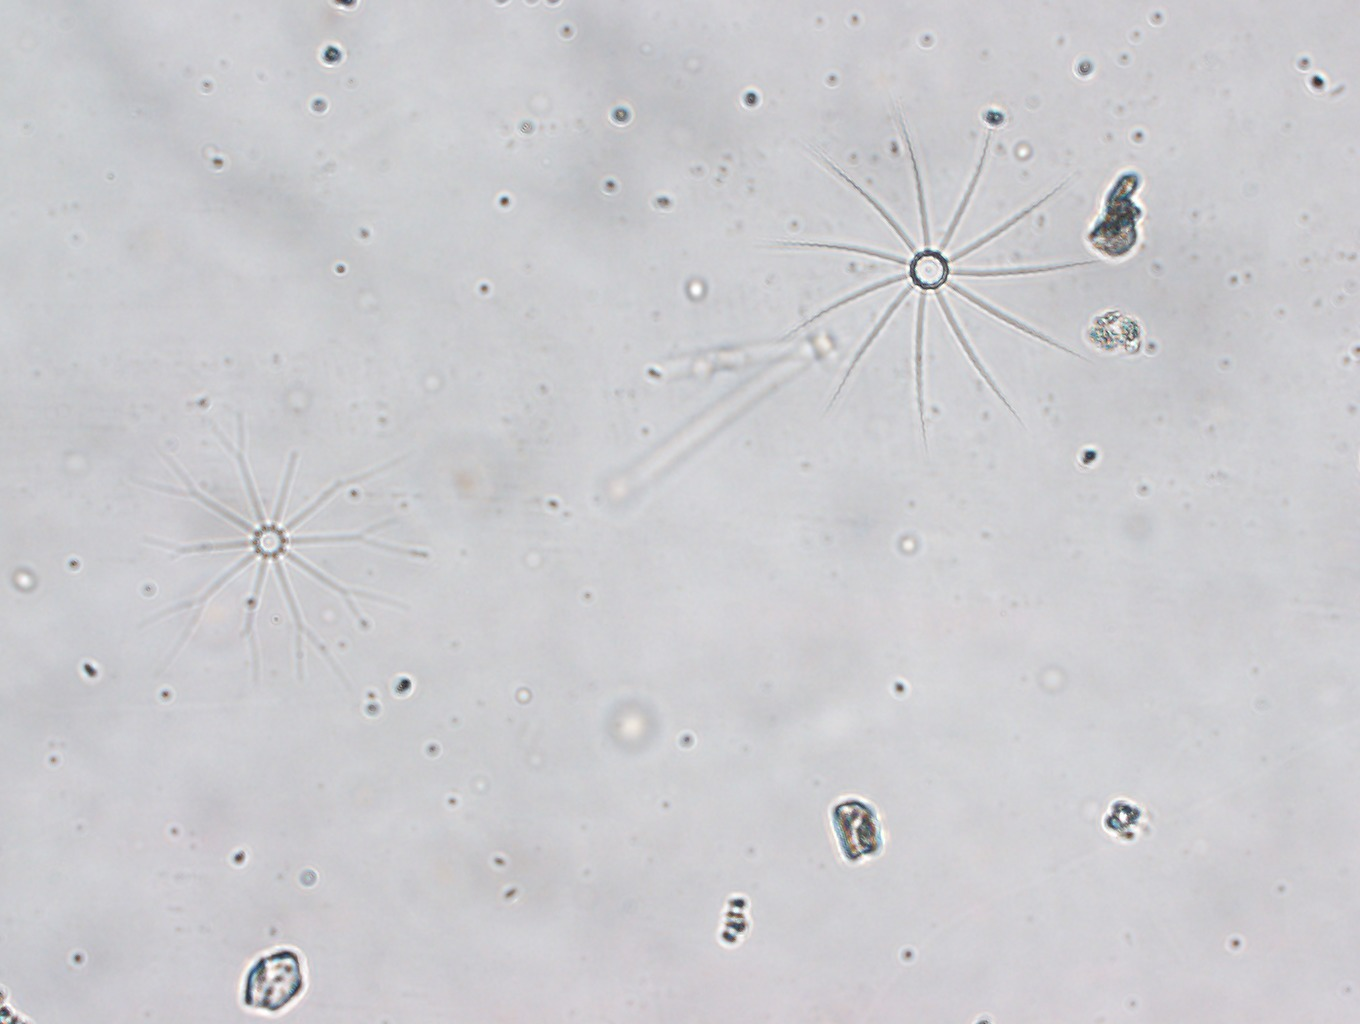bacteriastrum: (769, 106, 1101, 445), (131, 413, 429, 686)
